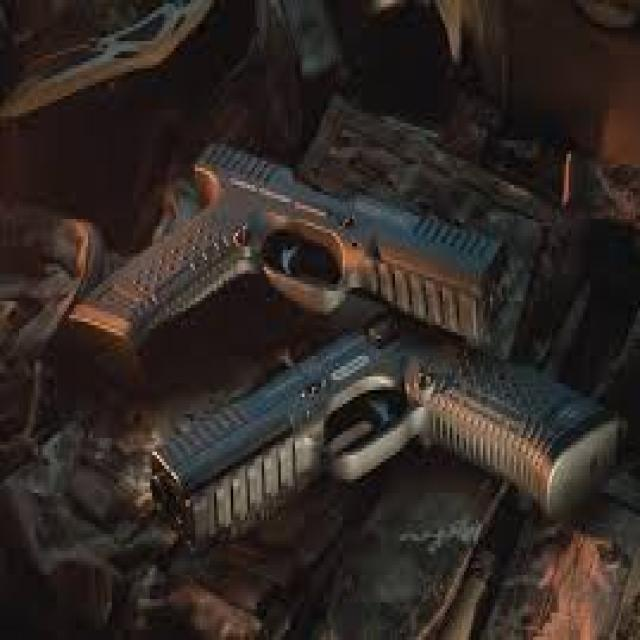semi automatic: (55, 122, 629, 582)
